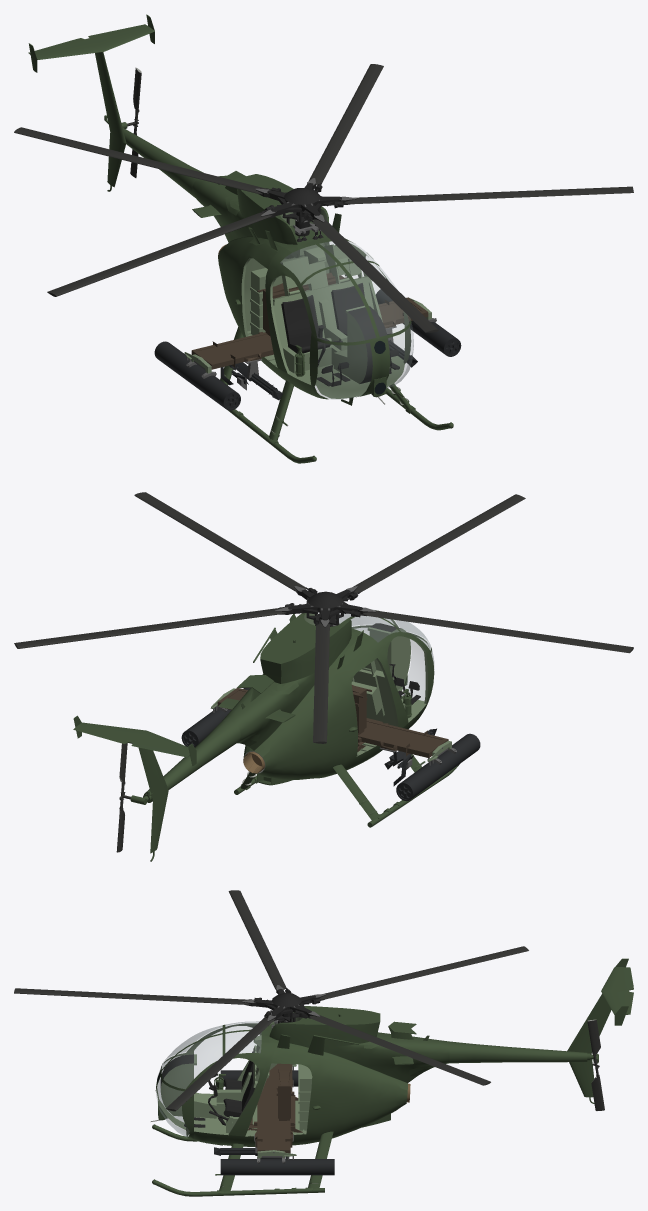
3 views of the same model, one above another, from view 1: azimuth 30°, elevation 25°; view 2: azimuth 150°, elevation 25°; view 3: azimuth 270°, elevation 25° (orthographic). The views are drawn at different scales.
Parts seen in each view (by area): view 1: Body, MainRotor; view 2: Body, MainRotor, TailRotor; view 3: Body, MainRotor, TailRotor.
Boxes of the visible parts, x1,y1,x2,y2 form: Body: [28, 14, 461, 463]; MainRotor: [14, 64, 633, 332]; Body: [73, 609, 480, 861]; MainRotor: [14, 492, 633, 743]; TailRotor: [116, 743, 130, 852]; Body: [150, 958, 633, 1196]; MainRotor: [14, 890, 528, 1111]; TailRotor: [587, 1019, 604, 1110].
Size of the model in its own units: 7.69 by 2.98 by 9.14.
2 materials, 1 textured.
